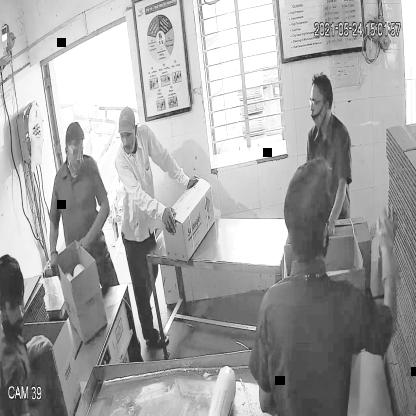goggles: (63, 139, 86, 157), (306, 93, 329, 110)
no_goggles: (117, 128, 138, 143)
